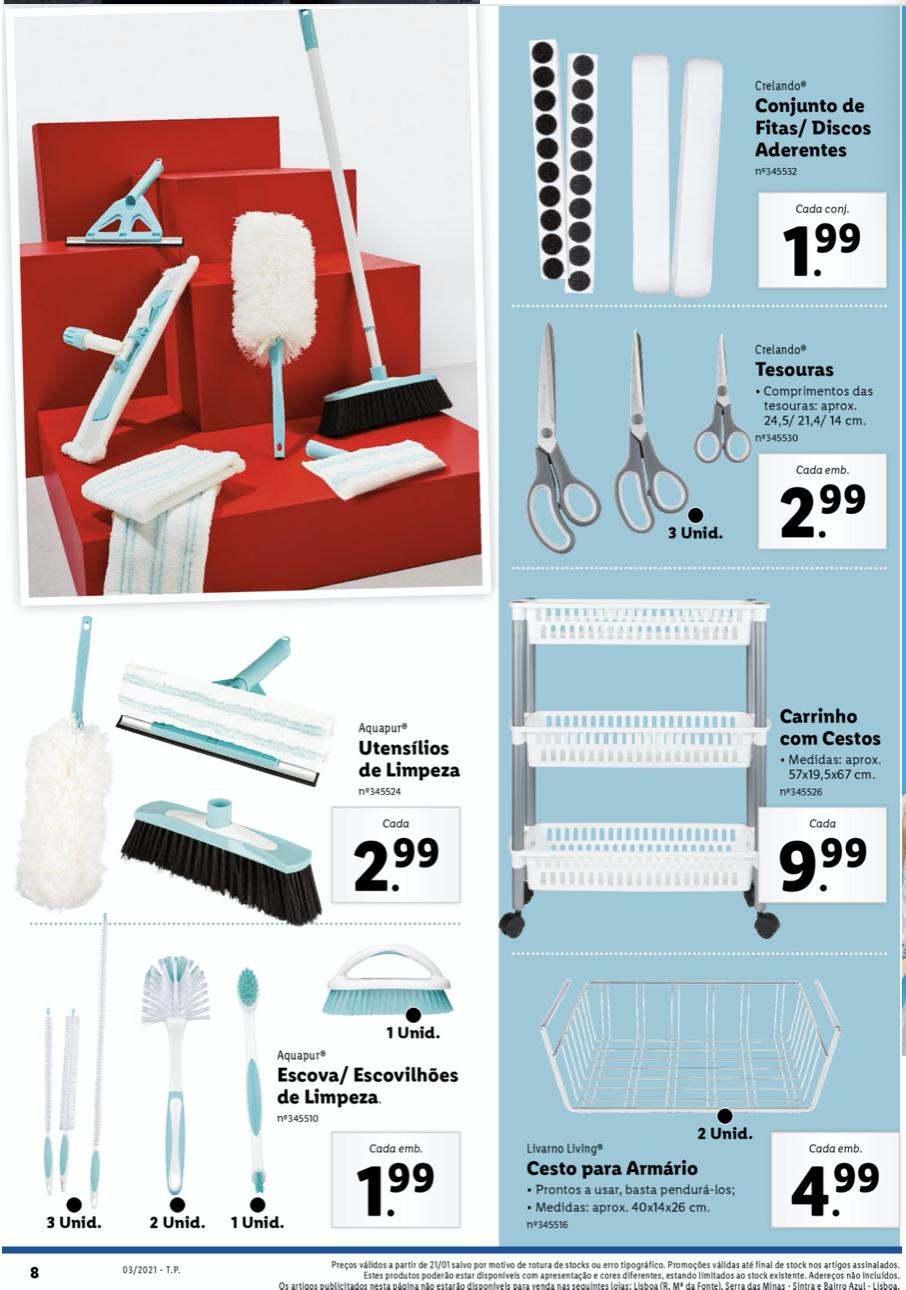name: (271, 1061, 468, 1114), (746, 96, 878, 161), (773, 704, 891, 755), (351, 736, 468, 782), (516, 1155, 700, 1182), (752, 357, 840, 382)
price: (759, 190, 886, 292), (784, 1154, 886, 1228), (771, 479, 883, 546), (776, 833, 875, 901), (351, 831, 446, 900), (351, 1160, 443, 1223)
product: (8, 917, 476, 1246), (8, 611, 478, 917), (505, 576, 894, 942), (516, 22, 897, 296), (518, 965, 898, 1236), (514, 314, 892, 560)
